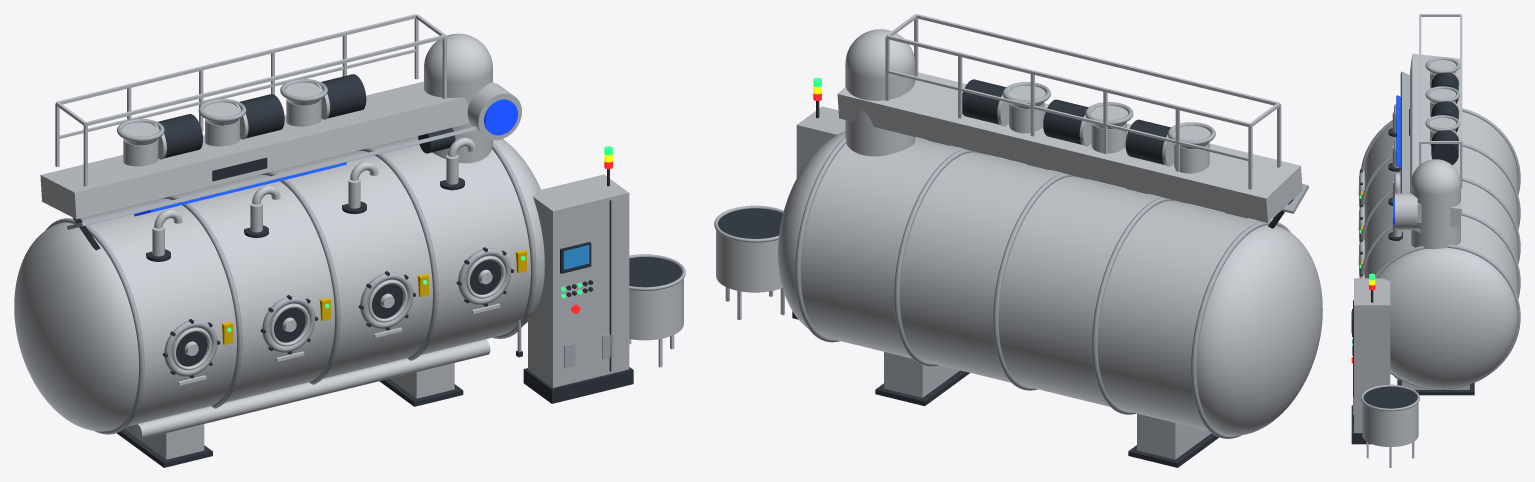
3 views of the same model, side by side, from view 1: azimuth 30°, elevation 25°; view 2: azimuth 150°, elevation 25°; view 3: azimuth 270°, elevation 25° (orthographic). The views are drawn at different scales.
Visible parts, largest first — view 1: Asset; view 2: Asset; view 3: Asset.
Boxes of the visible parts, x1,y1,x2,y2 form: Asset: (14,14,685,467); Asset: (714,14,1322,467); Asset: (1351,14,1520,467).
Size of the model in its own units: 11.19 by 6.13 by 3.72.
